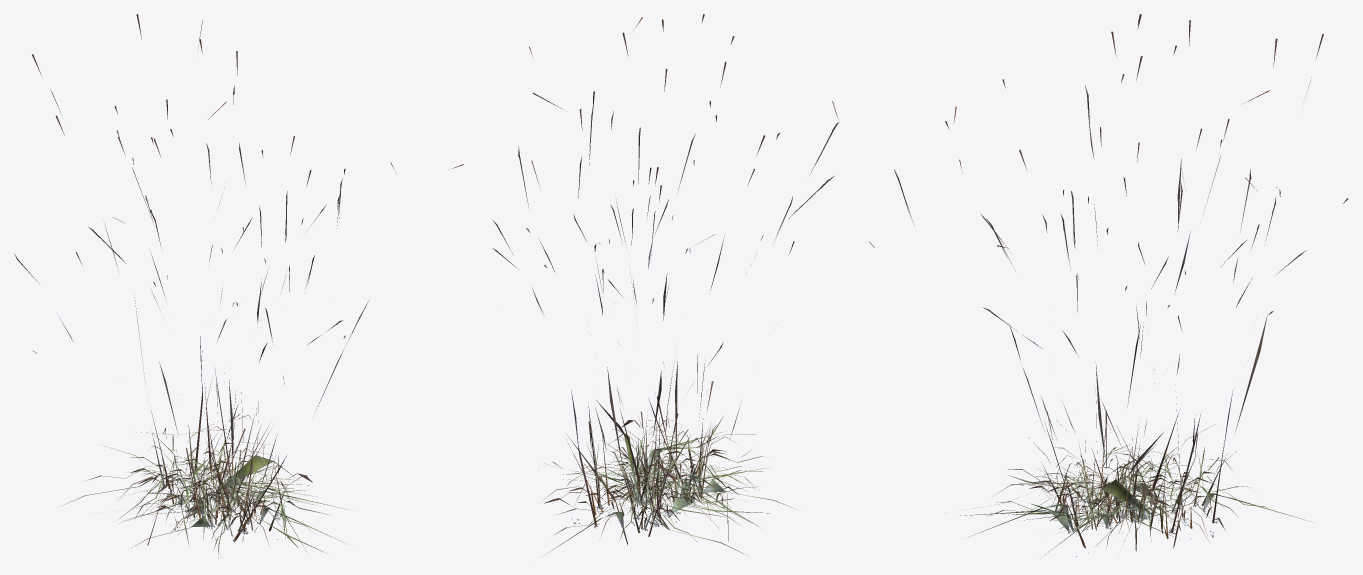
Rendered from runtime-sesuvium.glb.
3 views of the same model, side by side, from view 1: azimuth 30°, elevation 25°; view 2: azimuth 150°, elevation 25°; view 3: azimuth 270°, elevation 25° (orthographic). The views are drawn at different scales.
Parts seen in each view (by area): view 1: ArmeriaMaritima_7bq6d_Big_lod2_OL.002, ArmeriaMaritima_7bq6d_Big_lod2_OL.001, ArmeriaMaritima_7bq6d_Big_lod0_OL.002, ArmeriaMaritima_7bq6d_Big_lod2_OL.003, ArmeriaMaritima_7bq6d_Big_lod1_OL.004, ArmeriaMaritima_7bq6d_Big_lod1_OL.003, ArmeriaMaritima_7bq6d_Big_lod1_OL.002, ArmeriaMaritima_7bq6d_Big_lod2_OL, ArmeriaMaritima_7bq6d_Big_lod0_OL.001, ArmeriaMaritima_7bq6d_Big_lod1_OL.001, ArmeriaMaritima_7bq6d_Big_lod2_OL.004, ArmeriaMaritima_7bq6d_Big_lod0_OL.003 (+1 smaller); view 2: ArmeriaMaritima_7bq6d_Big_lod2_OL.001, ArmeriaMaritima_7bq6d_Big_lod2_OL.002, ArmeriaMaritima_7bq6d_Big_lod2_OL.003, ArmeriaMaritima_7bq6d_Big_lod0_OL.002, ArmeriaMaritima_7bq6d_Big_lod1_OL.003, ArmeriaMaritima_7bq6d_Big_lod1_OL.002, ArmeriaMaritima_7bq6d_Big_lod0_OL.003, ArmeriaMaritima_7bq6d_Big_lod1_OL.001, ArmeriaMaritima_7bq6d_Big_lod2_OL.004, ArmeriaMaritima_7bq6d_Big_lod0_OL.001, ArmeriaMaritima_7bq6d_Big_lod1_OL.004, ArmeriaMaritima_7bq6d_Big_lod2_OL (+3 smaller); view 3: ArmeriaMaritima_7bq6d_Big_lod2_OL.002, ArmeriaMaritima_7bq6d_Big_lod2_OL.001, ArmeriaMaritima_7bq6d_Big_lod2_OL.003, ArmeriaMaritima_7bq6d_Big_lod1_OL.002, ArmeriaMaritima_7bq6d_Big_lod0_OL.002, ArmeriaMaritima_7bq6d_Big_lod1_OL.004, ArmeriaMaritima_7bq6d_Big_lod2_OL.004, ArmeriaMaritima_7bq6d_Big_lod1_OL.001, ArmeriaMaritima_7bq6d_Big_lod1_OL.003, ArmeriaMaritima_7bq6d_Big_lod0_OL.003, ArmeriaMaritima_7bq6d_Big_lod2_OL, ArmeriaMaritima_7bq6d_Big_lod0_OL.001 (+2 smaller).
Boxes of the visible parts, <box> form: ArmeriaMaritima_7bq6d_Big_lod2_OL.002: <box>89,15,393,551</box>; ArmeriaMaritima_7bq6d_Big_lod2_OL.001: <box>33,43,344,548</box>; ArmeriaMaritima_7bq6d_Big_lod0_OL.002: <box>89,14,394,549</box>; ArmeriaMaritima_7bq6d_Big_lod2_OL.003: <box>56,87,345,546</box>; ArmeriaMaritima_7bq6d_Big_lod1_OL.004: <box>153,20,341,527</box>; ArmeriaMaritima_7bq6d_Big_lod1_OL.003: <box>56,116,463,553</box>; ArmeriaMaritima_7bq6d_Big_lod1_OL.002: <box>116,14,368,547</box>; ArmeriaMaritima_7bq6d_Big_lod2_OL: <box>16,140,347,529</box>; ArmeriaMaritima_7bq6d_Big_lod0_OL.001: <box>32,39,345,532</box>; ArmeriaMaritima_7bq6d_Big_lod1_OL.001: <box>32,39,322,526</box>; ArmeriaMaritima_7bq6d_Big_lod2_OL.004: <box>141,100,342,523</box>; ArmeriaMaritima_7bq6d_Big_lod0_OL.003: <box>56,85,344,541</box>; ArmeriaMaritima_7bq6d_Big_lod2_OL.001: <box>493,14,837,555</box>; ArmeriaMaritima_7bq6d_Big_lod2_OL.002: <box>543,17,830,544</box>; ArmeriaMaritima_7bq6d_Big_lod2_OL.003: <box>519,132,780,532</box>; ArmeriaMaritima_7bq6d_Big_lod0_OL.002: <box>569,27,833,543</box>; ArmeriaMaritima_7bq6d_Big_lod1_OL.003: <box>529,46,769,532</box>; ArmeriaMaritima_7bq6d_Big_lod1_OL.002: <box>566,33,834,542</box>; ArmeriaMaritima_7bq6d_Big_lod0_OL.003: <box>518,101,764,536</box>; ArmeriaMaritima_7bq6d_Big_lod1_OL.001: <box>498,16,830,535</box>; ArmeriaMaritima_7bq6d_Big_lod2_OL.004: <box>493,36,740,526</box>; ArmeriaMaritima_7bq6d_Big_lod0_OL.001: <box>494,14,838,555</box>; ArmeriaMaritima_7bq6d_Big_lod1_OL.004: <box>494,37,733,512</box>; ArmeriaMaritima_7bq6d_Big_lod2_OL: <box>574,69,838,517</box>; ArmeriaMaritima_7bq6d_Big_lod2_OL.002: <box>959,39,1277,556</box>; ArmeriaMaritima_7bq6d_Big_lod2_OL.001: <box>896,14,1345,536</box>; ArmeriaMaritima_7bq6d_Big_lod2_OL.003: <box>869,20,1280,538</box>; ArmeriaMaritima_7bq6d_Big_lod1_OL.002: <box>993,39,1276,548</box>; ArmeriaMaritima_7bq6d_Big_lod0_OL.002: <box>959,38,1277,556</box>; ArmeriaMaritima_7bq6d_Big_lod1_OL.004: <box>1003,32,1299,529</box>; ArmeriaMaritima_7bq6d_Big_lod2_OL.004: <box>1004,32,1301,540</box>; ArmeriaMaritima_7bq6d_Big_lod1_OL.001: <box>898,15,1345,539</box>; ArmeriaMaritima_7bq6d_Big_lod1_OL.003: <box>872,158,1277,539</box>; ArmeriaMaritima_7bq6d_Big_lod0_OL.003: <box>986,20,1280,536</box>; ArmeriaMaritima_7bq6d_Big_lod2_OL: <box>953,111,1275,555</box>; ArmeriaMaritima_7bq6d_Big_lod0_OL.001: <box>894,14,1348,533</box>.
Bounding box in the file's own units: 0.3963 × 0.562 × 0.4662.
Materials: 1 (1 with a texture image).
